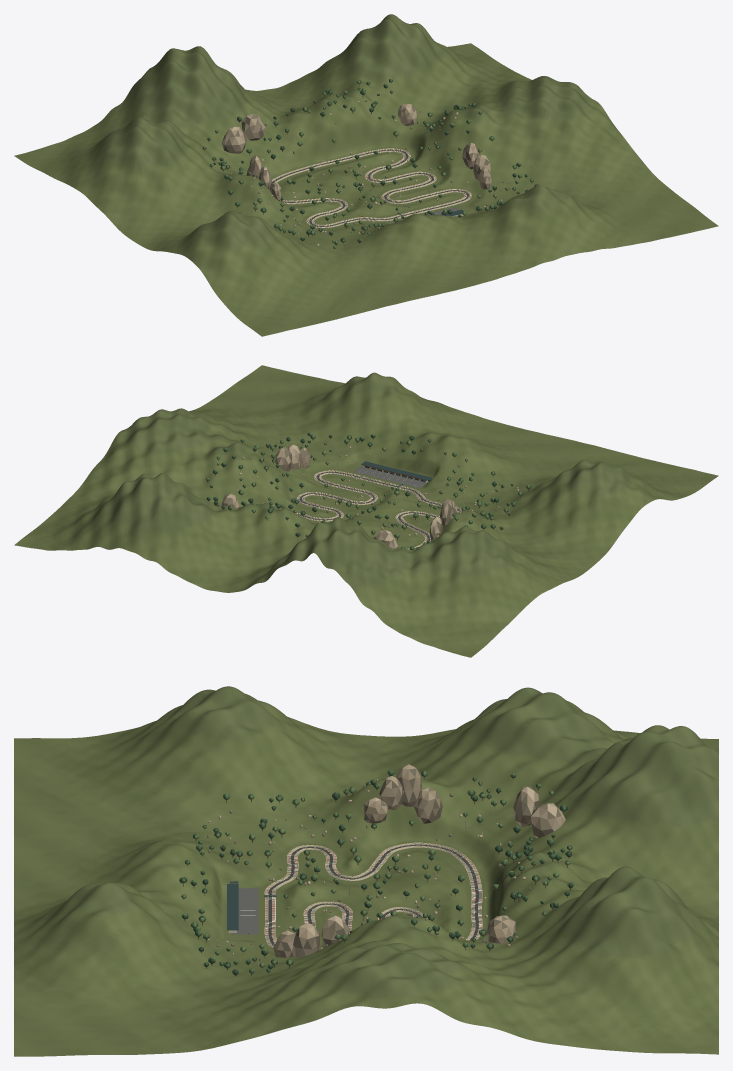
The model's file is hill-kart-map.glb.
3 views of the same model, one above another, from view 1: azimuth 30°, elevation 25°; view 2: azimuth 150°, elevation 25°; view 3: azimuth 270°, elevation 25° (orthographic). The views are drawn at different scales.
Visible parts, largest first — view 1: HillMap environment Map meadow olive, HillMap environment Map cliff highlight, HillMap environment Map forest sunlit, HillMap environment Map forest sage, HillMap environment Map forest deep, HillMap environment Map cliff umber, Hill Lanes 2 barrier Map sand barrier, HillMap environment Map cliff sandstone, Hill Lanes 5 barrier Map sand barrier, Hill Lanes 3 barrier Map sand barrier, Hill Lanes 4 barrier Map sand barrier, Hill Lanes 2 asphalt Map studio asphalt; view 2: HillMap environment Map meadow olive, HillMap environment Map forest sunlit, HillMap environment Map forest sage, HillMap environment Map forest deep, HillMap environment Map cliff highlight, Hill Lanes 2 barrier Map sand barrier, HillMap environment Map cliff umber, Hill Lanes 3 barrier Map sand barrier, Hill Lanes 5 barrier Map sand barrier, HillMap environment Map cliff sandstone, Hill Lanes 4 barrier Map sand barrier, HillMap environment Map pit pavement; view 3: HillMap environment Map meadow olive, HillMap environment Map cliff highlight, HillMap environment Map cliff sandstone, HillMap environment Map cliff umber, HillMap environment Map forest sage, HillMap environment Map forest sunlit, HillMap environment Map forest deep, Hill Lanes 2 barrier Map sand barrier, Hill Lanes 4 barrier Map sand barrier, Hill Lanes 5 barrier Map sand barrier, Hill Lanes 3 barrier Map sand barrier, HillMap environment Map pit pavement (+5 smaller).
Part boxes in pixels (x1,y1,x2,y2): HillMap environment Map meadow olive: (14, 14, 718, 336); HillMap environment Map cliff highlight: (222, 103, 502, 248); HillMap environment Map forest sunlit: (203, 81, 532, 247); HillMap environment Map forest sage: (203, 79, 537, 248); HillMap environment Map forest deep: (202, 79, 538, 247); HillMap environment Map cliff umber: (222, 99, 509, 246); Hill Lanes 2 barrier Map sand barrier: (272, 149, 469, 226); HillMap environment Map cliff sandstone: (213, 101, 511, 234); Hill Lanes 5 barrier Map sand barrier: (272, 148, 471, 228); Hill Lanes 3 barrier Map sand barrier: (269, 149, 470, 227); Hill Lanes 4 barrier Map sand barrier: (272, 148, 470, 227); Hill Lanes 2 asphalt Map studio asphalt: (271, 149, 468, 226); HillMap environment Map meadow olive: (14, 365, 718, 657); HillMap environment Map forest sunlit: (206, 433, 529, 549); HillMap environment Map forest sage: (206, 432, 530, 549); HillMap environment Map forest deep: (206, 433, 531, 548); HillMap environment Map cliff highlight: (221, 445, 518, 548); Hill Lanes 2 barrier Map sand barrier: (296, 471, 461, 549); HillMap environment Map cliff umber: (223, 447, 500, 547); Hill Lanes 3 barrier Map sand barrier: (296, 471, 463, 549); Hill Lanes 5 barrier Map sand barrier: (296, 470, 464, 548); HillMap environment Map cliff sandstone: (221, 444, 476, 548); Hill Lanes 4 barrier Map sand barrier: (296, 470, 461, 548); HillMap environment Map pit pavement: (353, 465, 428, 488); HillMap environment Map meadow olive: (14, 686, 718, 1056); HillMap environment Map cliff highlight: (207, 764, 565, 957); HillMap environment Map cliff sandstone: (226, 764, 565, 965); HillMap environment Map cliff umber: (207, 765, 561, 964); HillMap environment Map forest sage: (181, 770, 573, 973); HillMap environment Map forest sunlit: (182, 770, 571, 972); HillMap environment Map forest deep: (179, 771, 572, 975); Hill Lanes 2 barrier Map sand barrier: (267, 844, 479, 946); Hill Lanes 4 barrier Map sand barrier: (265, 843, 481, 947); Hill Lanes 5 barrier Map sand barrier: (264, 842, 482, 948); Hill Lanes 3 barrier Map sand barrier: (266, 843, 480, 947); HillMap environment Map pit pavement: (231, 887, 258, 934).
Bounding box in the file's own units: 1330 × 238 × 1250.
